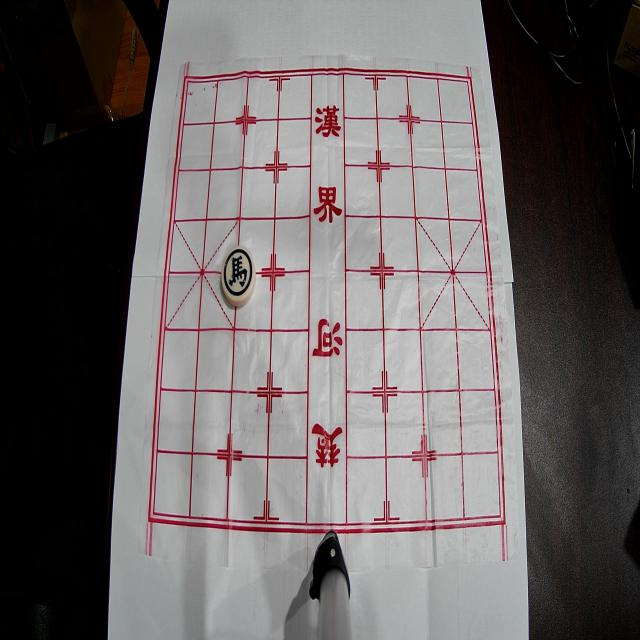black-horse: (222, 246, 256, 306)
